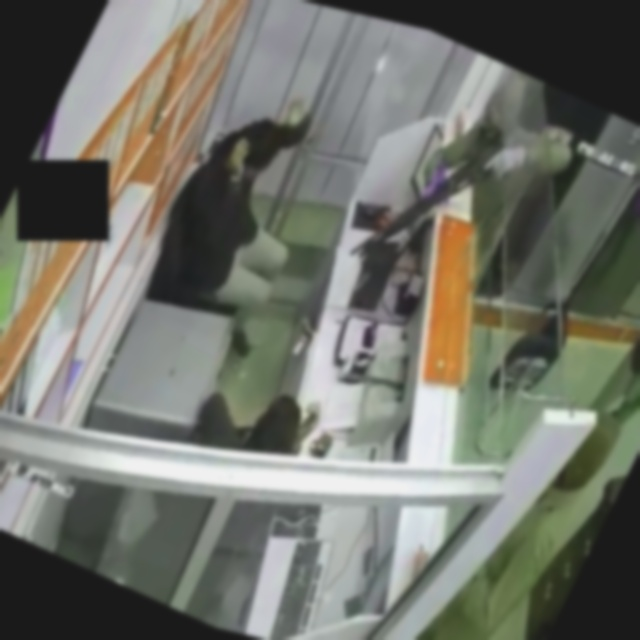gun: (342, 97, 510, 307)
